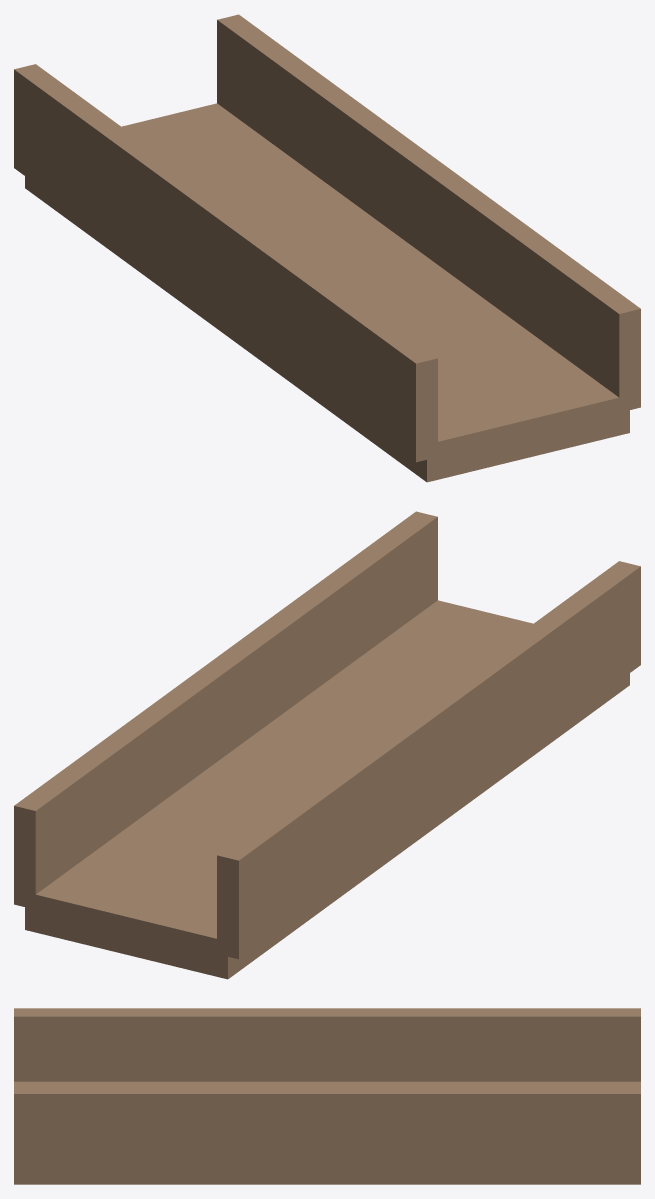
The model's file is wooden_boat.glb.
3 renders of one model, top to bottom at view 1: azimuth 30°, elevation 25°; view 2: azimuth 150°, elevation 25°; view 3: azimuth 270°, elevation 25°, orthographic. The views are drawn at different scales.
Visible parts, largest first — view 1: HullBottom_Node, HullSideL_Node, HullSideR_Node; view 2: HullBottom_Node, HullSideL_Node, HullSideR_Node; view 3: HullSideR_Node, HullSideL_Node, HullBottom_Node.
Boxes of the visible parts, box(x1,y1,x2,y2) form: HullBottom_Node: box(25, 103, 629, 482); HullSideL_Node: box(14, 64, 437, 462); HullSideR_Node: box(217, 14, 640, 409); HullBottom_Node: box(25, 600, 629, 979); HullSideL_Node: box(217, 561, 640, 959); HullSideR_Node: box(14, 511, 437, 906); HullSideR_Node: box(14, 1085, 640, 1170); HullSideL_Node: box(14, 1008, 640, 1081); HullBottom_Node: box(14, 1081, 640, 1184).
Bounding box in the file's own units: 1.55 × 0.8 × 4.8.
